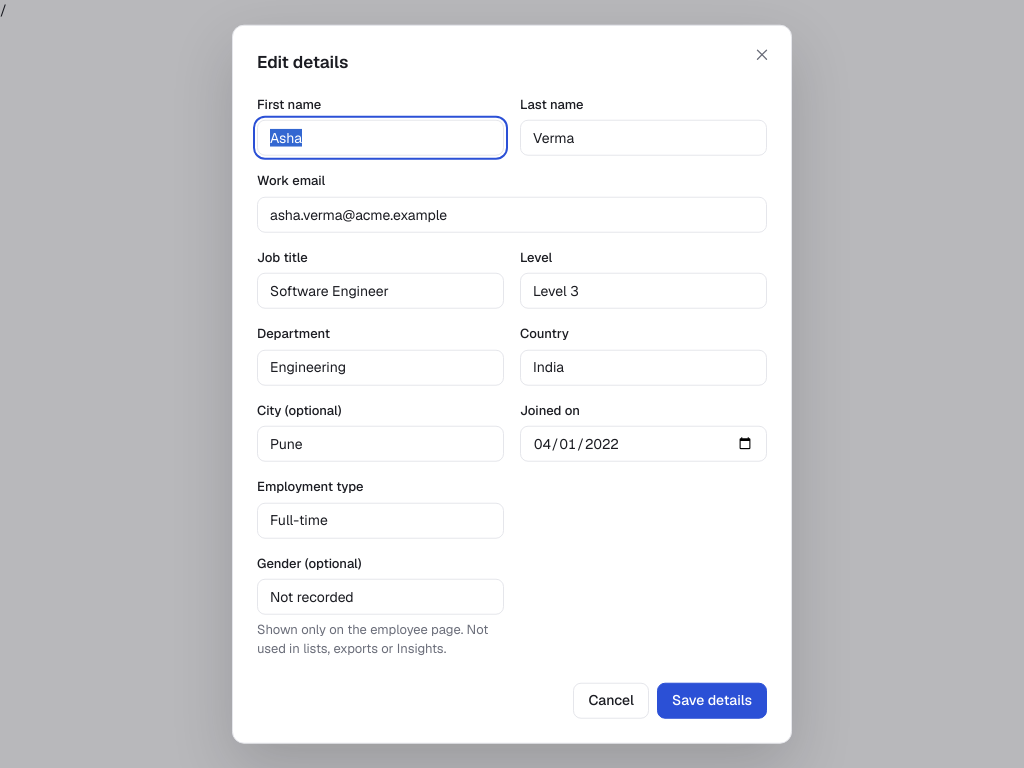
Test: Edit details › checks the fields before sending
The width and height of the screenshot is (1024, 768).
Clear the field labelled "First name" at coordinates (380, 138), box [257,120,504,156]
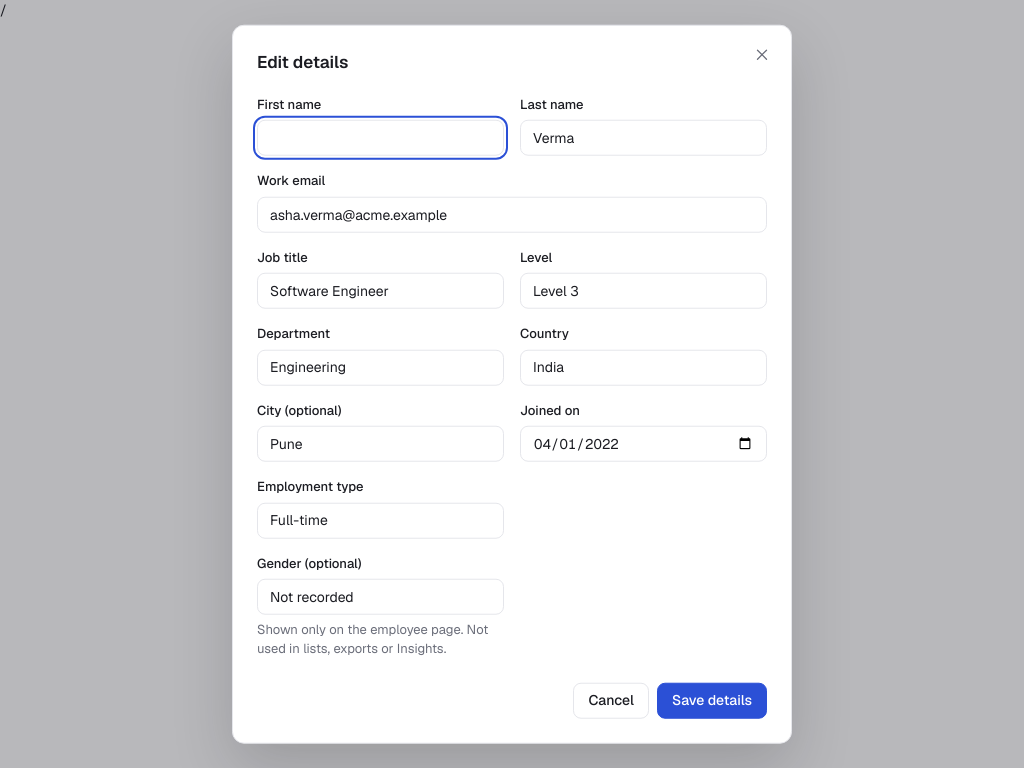
Select "Part-time" in the dropdown labelled "Employment type" at coordinates (380, 521), box [257,503,504,539]
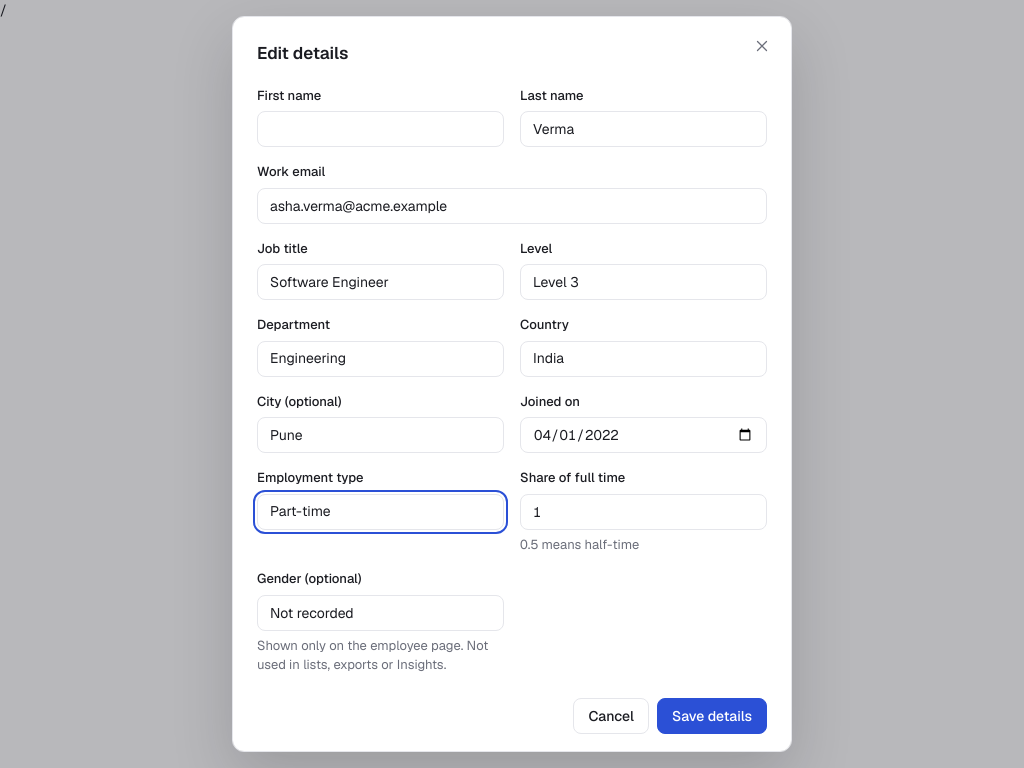
Replace the text in the field labelled "Share of full time" with "2" at coordinates (644, 512), box [520,494,767,530]
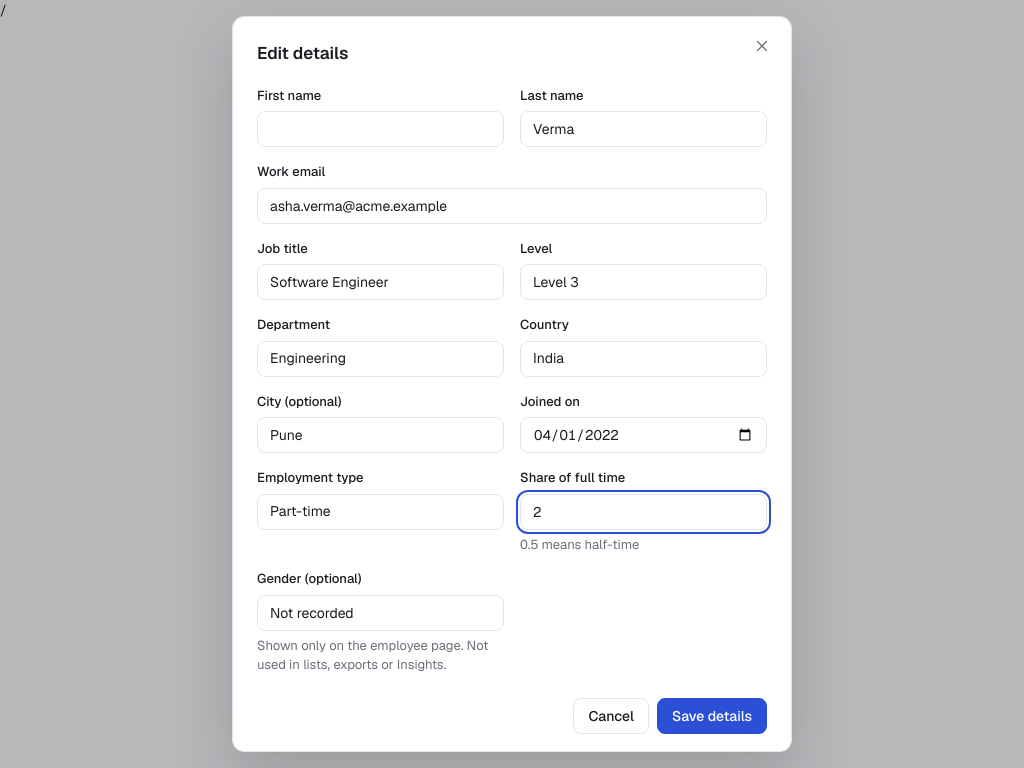
Click the button "Save details" at coordinates (712, 716), box [657,698,767,734]
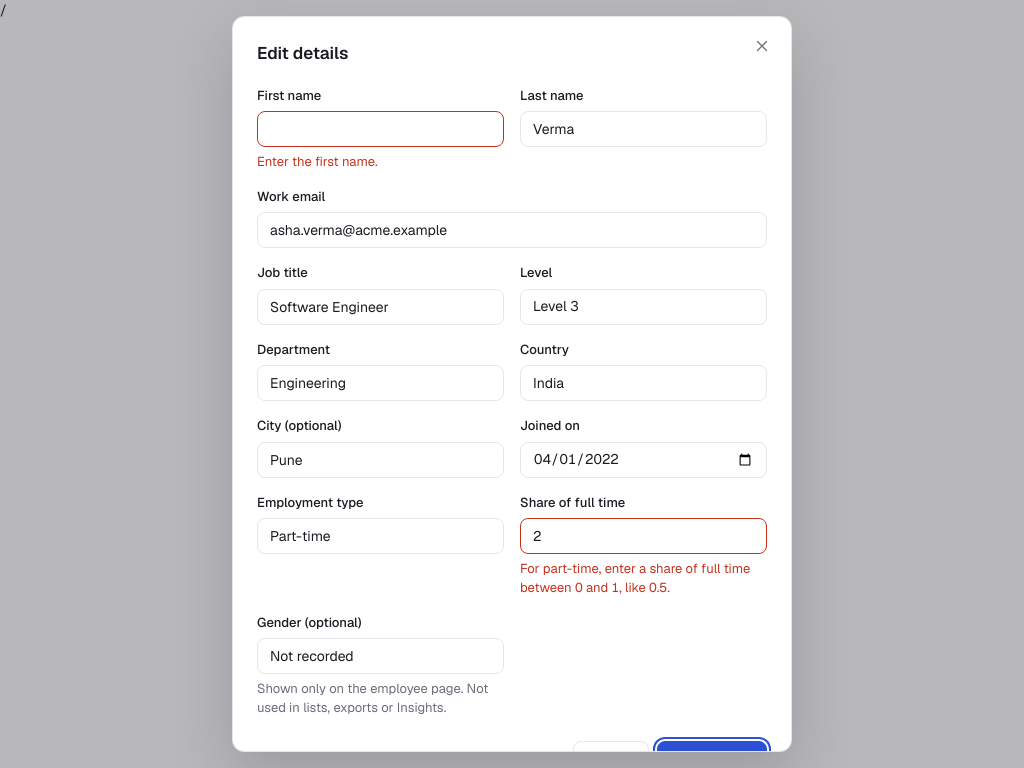
Check: the text "Enter the first name." is shown, box [257,153,378,170]
Check: the text "For part-time, enter a share of full time between 0 and 1, like 0.5." is shown, box [520,560,767,598]
